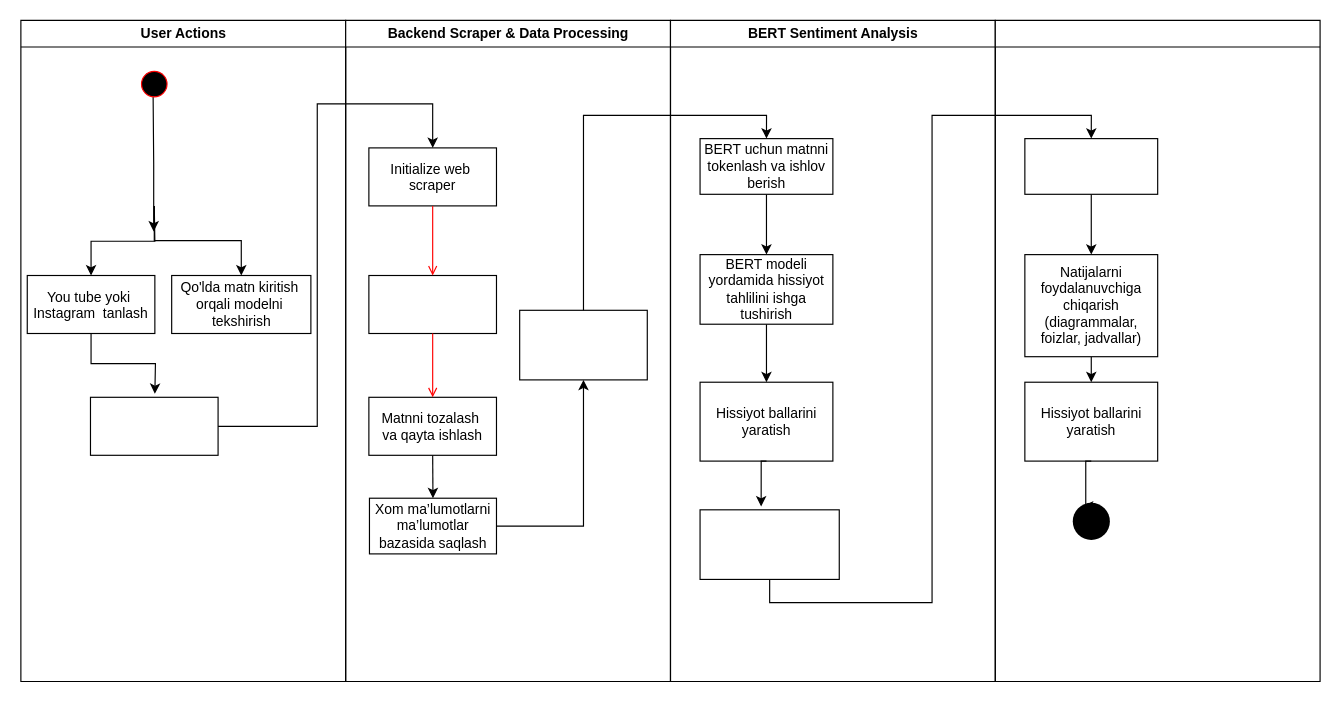
This 1340x702 diagram has some shape labels left out. The shapes that lost their labels are listed below. From the top down, each one's box as (x1, y1, x2, y2) in pixels, then its label:
(1024, 137, 1158, 194): Ma’lumotlar bazasidan hissiyot natijalarini olish
(368, 274, 496, 334): Fikrlar/lavhalar /tavsiflarni olish
(519, 309, 647, 380): Hissiyotlarni tahlil qilish moduliga ma’lumot yuborish
(994, 19, 1320, 682): Results Display
(89, 396, 218, 455): Post linkini kiritish, havolani yuboring
(699, 509, 839, 579): Tahlil qilingan natijalarni ma’lumotlar bazasida saqlash
